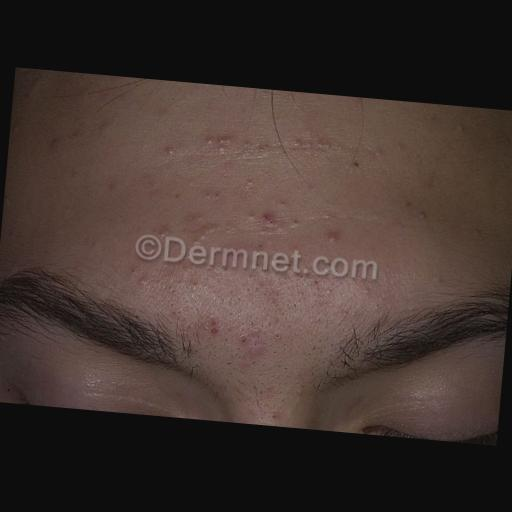Skin_Lesion: (202, 126, 277, 166), (292, 122, 344, 166), (30, 124, 86, 160), (184, 200, 229, 244), (252, 192, 292, 236), (399, 195, 434, 231), (122, 264, 158, 294), (239, 324, 268, 354), (199, 309, 227, 336), (157, 136, 185, 162), (323, 230, 343, 244)
